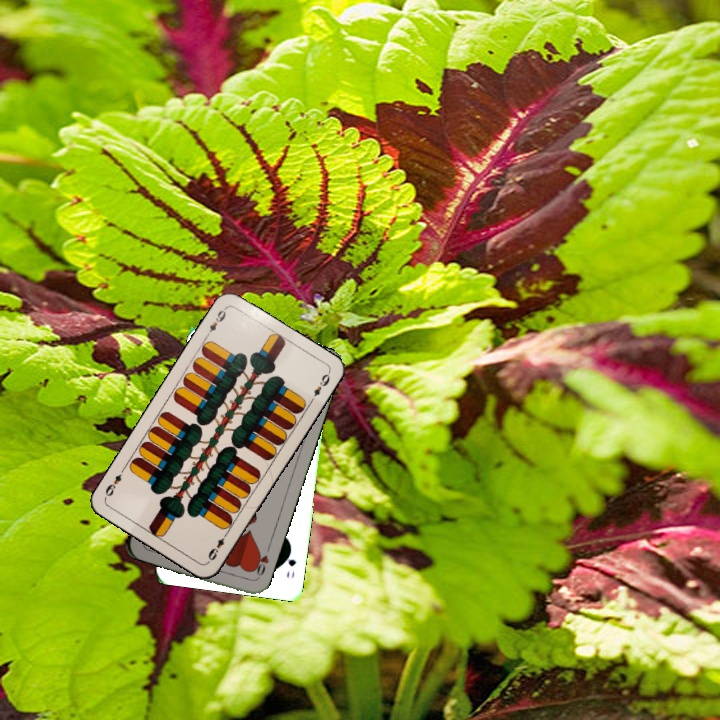E9: (203, 528, 231, 565), (202, 304, 229, 340)
GO: (282, 544, 299, 581)
HO: (248, 543, 272, 582)
